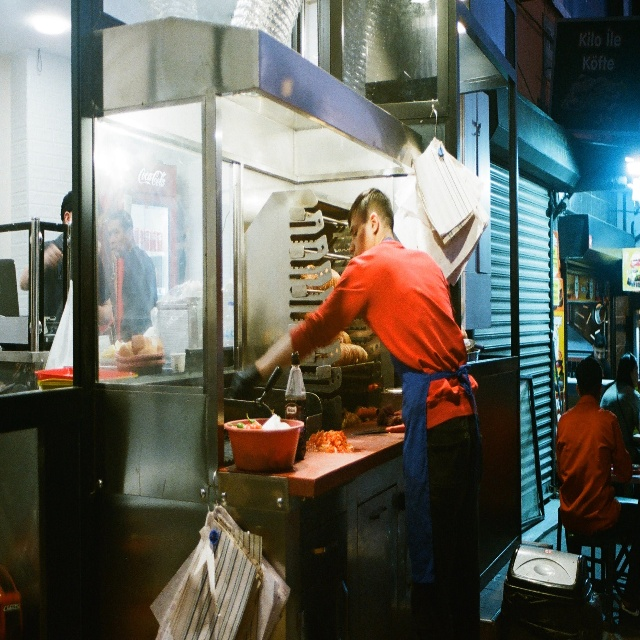Guantes: (226, 365, 259, 400)
Sin_guantes: (44, 241, 63, 270)
